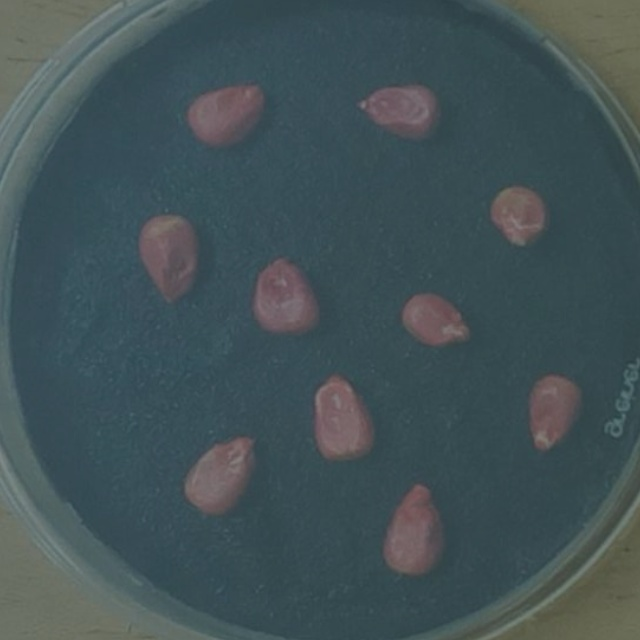Zea mays: (375, 474, 456, 587), (176, 73, 277, 159), (176, 428, 264, 524), (244, 247, 330, 344), (303, 368, 383, 471), (131, 207, 206, 315), (349, 76, 447, 149), (521, 368, 590, 461), (394, 285, 479, 357), (483, 180, 555, 257)
